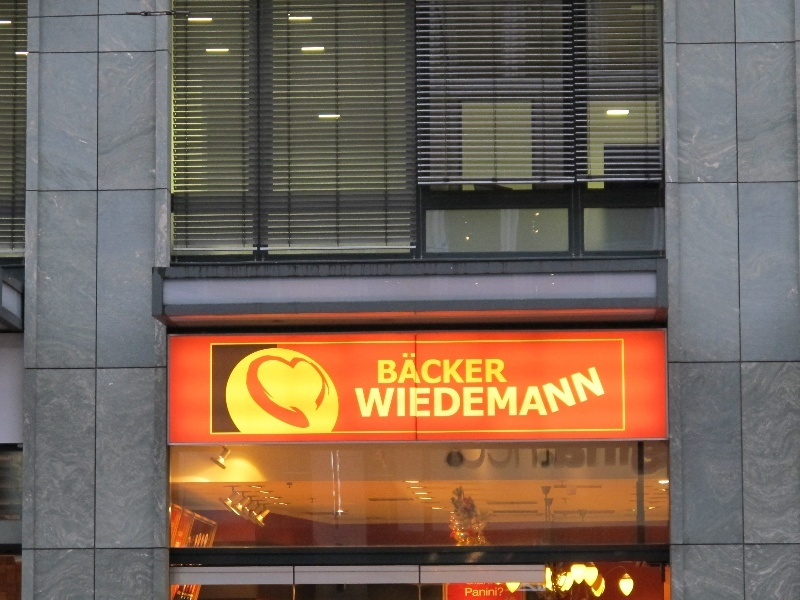text: (369, 367, 384, 446), (385, 367, 400, 446), (401, 367, 416, 446), (417, 367, 432, 446), (433, 367, 448, 446), (449, 367, 464, 446), (465, 367, 480, 446), (481, 367, 496, 446), (497, 367, 512, 446), (513, 367, 528, 446), (529, 367, 544, 446), (545, 367, 560, 446), (561, 367, 576, 446), (577, 367, 592, 446), (593, 367, 608, 446), (354, 367, 368, 446), (385, 350, 400, 384), (401, 350, 416, 384), (417, 350, 432, 384), (433, 350, 448, 384), (449, 350, 464, 384), (465, 350, 480, 384), (481, 350, 496, 384), (449, 442, 464, 475), (465, 442, 480, 475), (481, 442, 496, 475), (497, 442, 512, 475), (513, 442, 528, 475), (529, 442, 544, 475), (545, 442, 560, 475), (561, 442, 576, 475), (577, 442, 592, 475), (593, 442, 608, 475), (609, 442, 624, 475), (625, 442, 640, 475), (641, 442, 656, 475), (497, 350, 508, 384), (657, 442, 668, 475), (378, 350, 384, 384), (609, 367, 611, 446), (465, 588, 480, 597), (481, 588, 496, 597), (445, 442, 448, 475), (497, 588, 506, 597), (466, 583, 480, 585), (481, 583, 492, 585)
